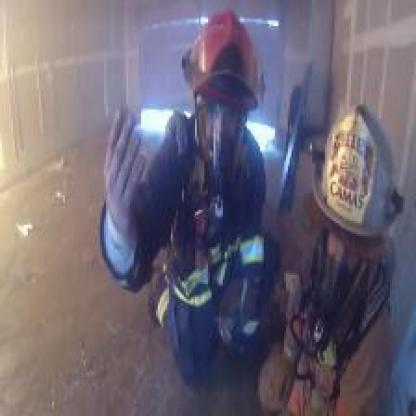other: (174, 20, 278, 106)
